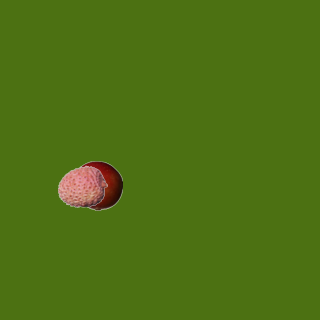Apple Braeburn: (72, 160, 122, 210)
Lychee: (57, 161, 107, 211)
